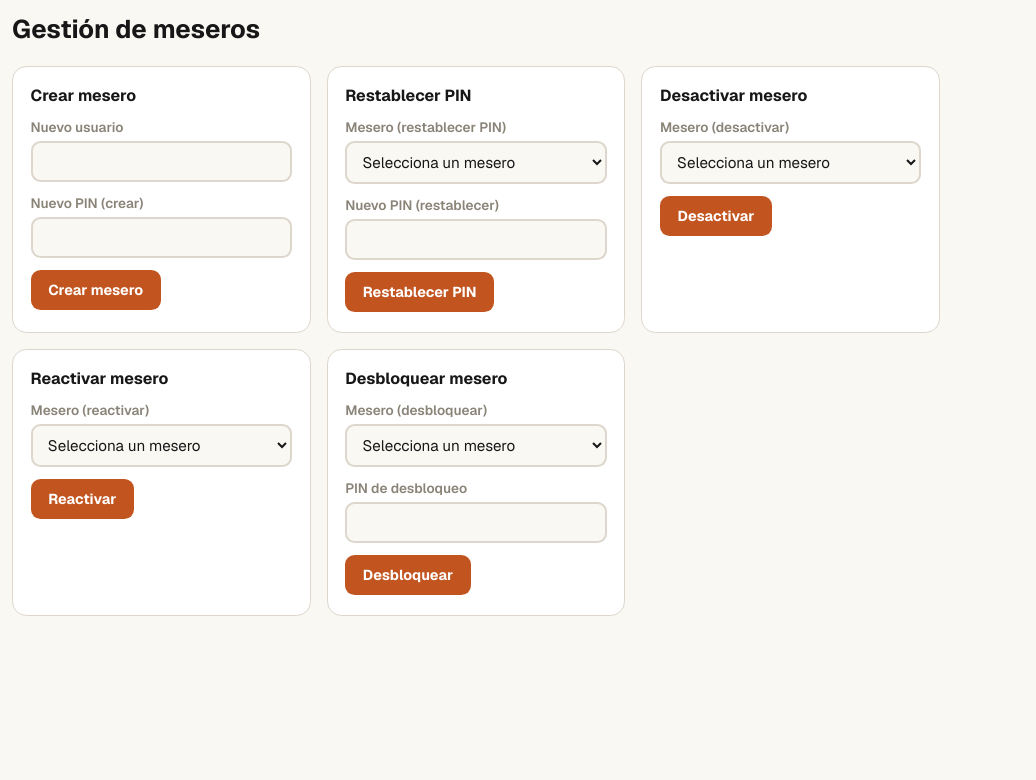
MeseroManagement (T53, RF-2/3/4/5/7) › resets a mesero's PIN using the dropdown
Select "carlos" in the dropdown labelled "Mesero (restablecer PIN)" at (476, 162), box [345,141,607,184]
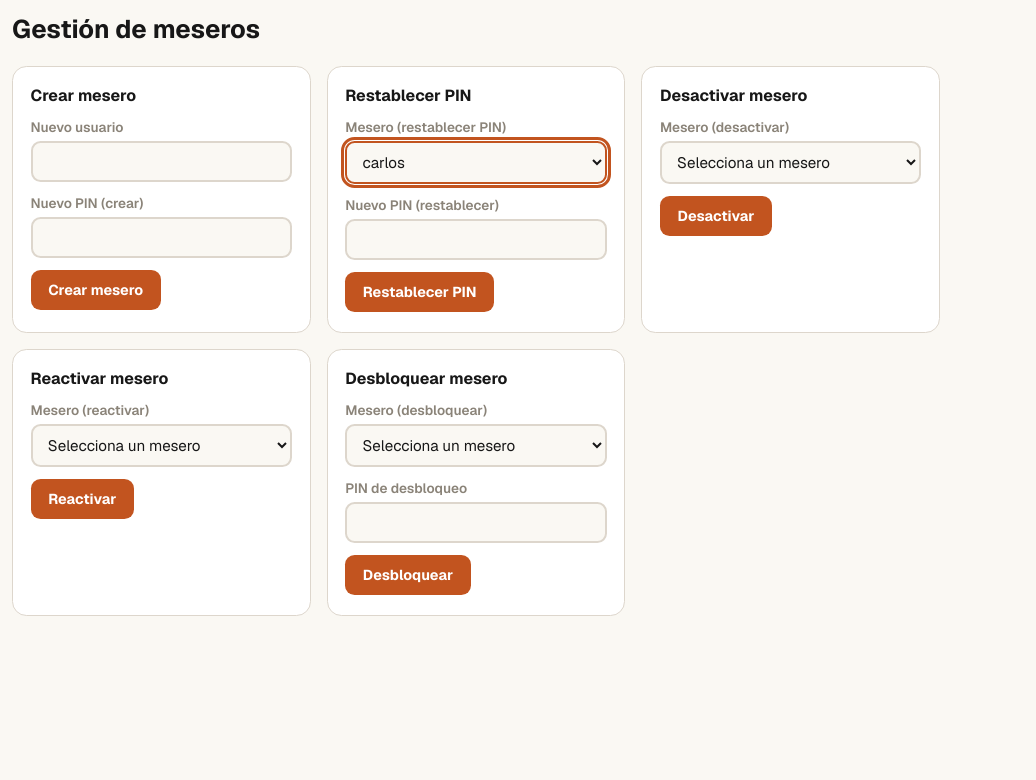
Type "9999" into the field labelled "Nuevo PIN (restablecer)" at (476, 240), box [345,219,607,260]
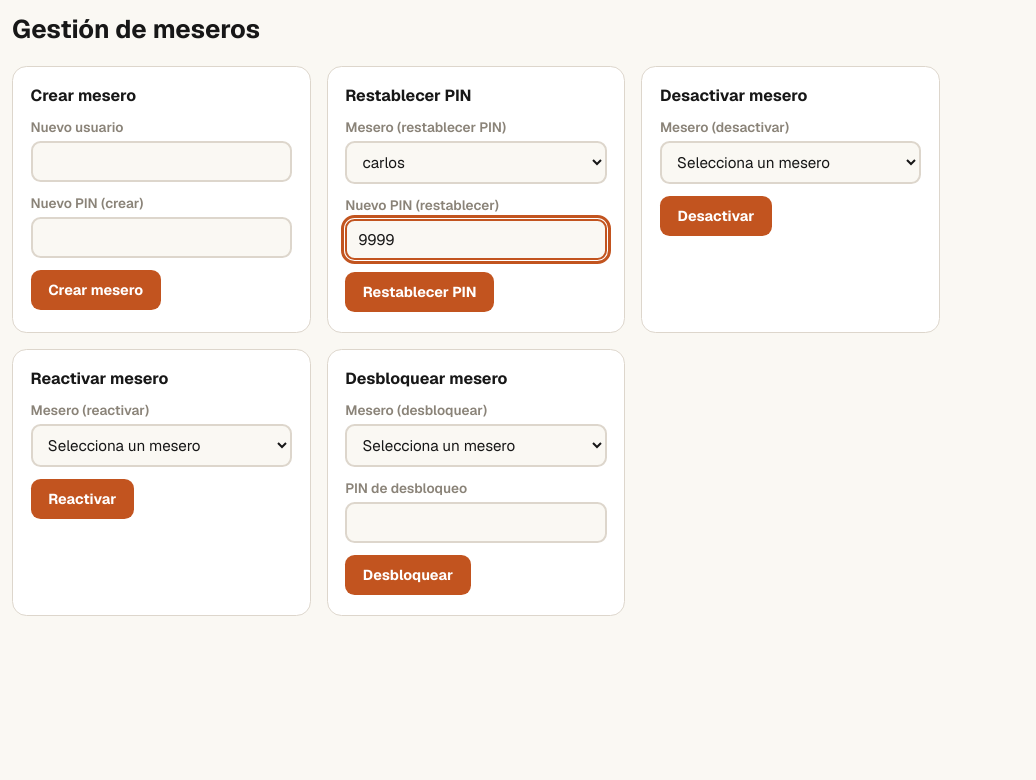
Click the button "Restablecer PIN" at (420, 292), box [345,272,494,312]
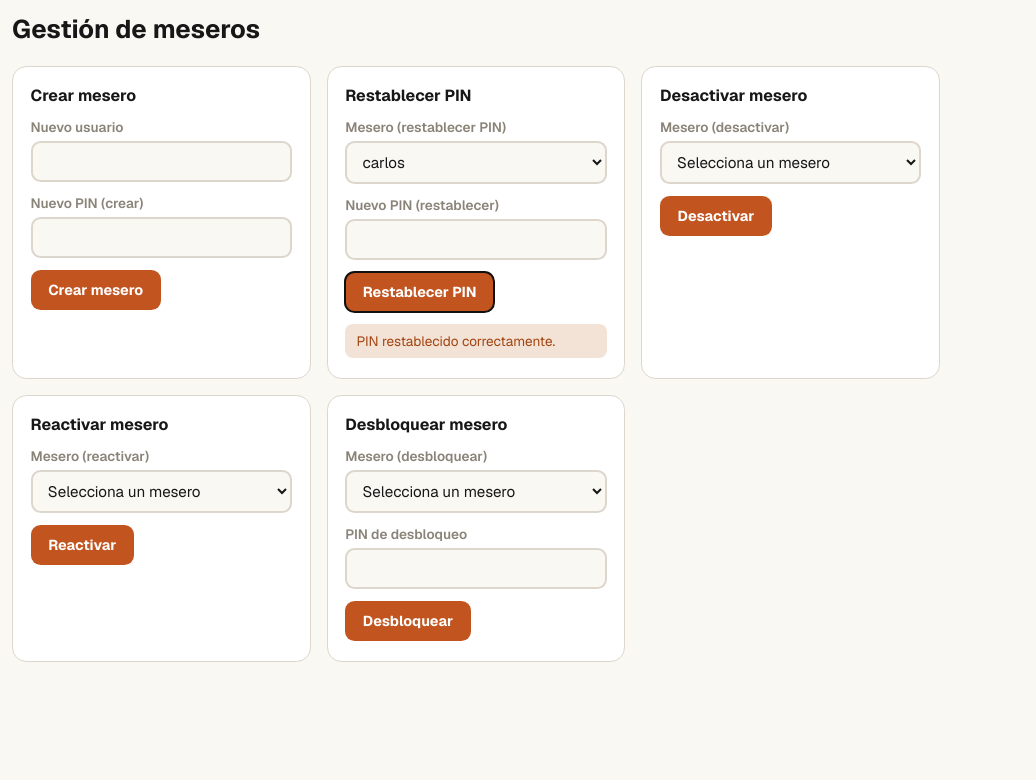
Expected: the text "PIN restablecido correctamente." is shown, [345,324,607,358]
